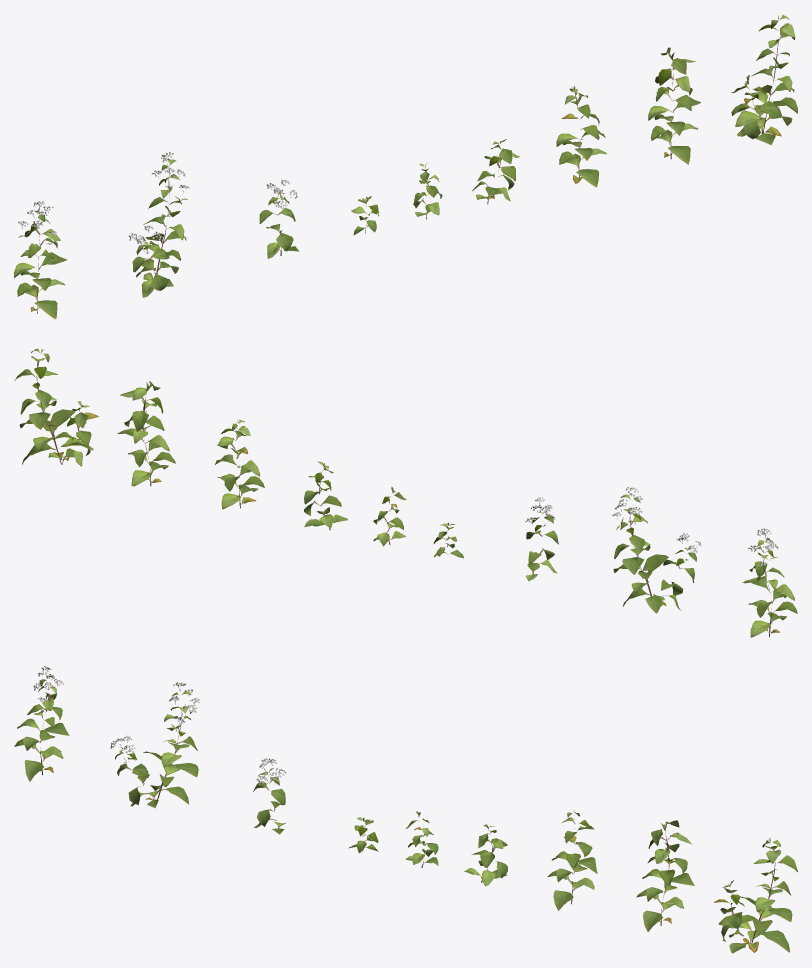
File: shrub_01_lod2.glb
The picture shows the model from 3 angles, top to bottom: view 1: azimuth 30°, elevation 25°; view 2: azimuth 150°, elevation 25°; view 3: azimuth 330°, elevation 25°; orthographic projection. The views are drawn at different scales.
Visible parts, largest first — view 1: shrub_01_a; view 2: shrub_01_a; view 3: shrub_01_a.
Part boxes in pixels (<box>): shrub_01_a: <box>14,14,797,319</box>; shrub_01_a: <box>14,348,797,637</box>; shrub_01_a: <box>14,666,797,953</box>.
Size of the model in its own units: 2.59 by 0.3956 by 0.2181.
Materials: 1 (1 with a texture image).
